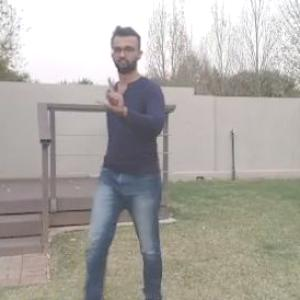land_hand: (91, 77, 128, 116)
